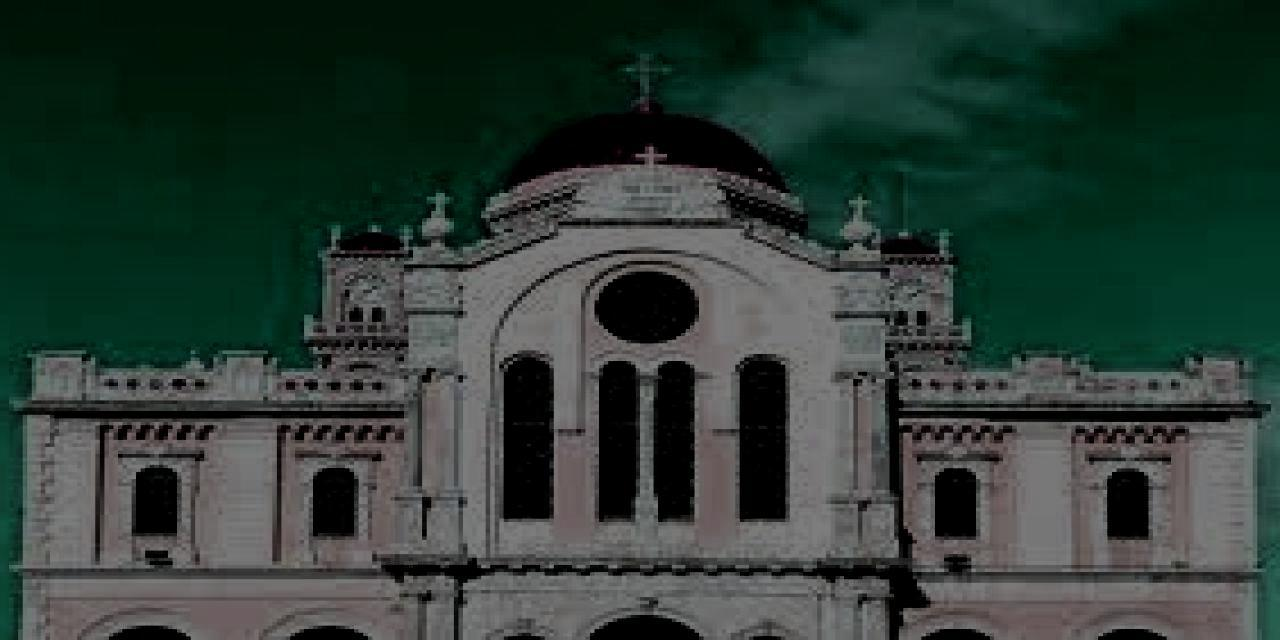Agios Minas: (2, 49, 1259, 640)
